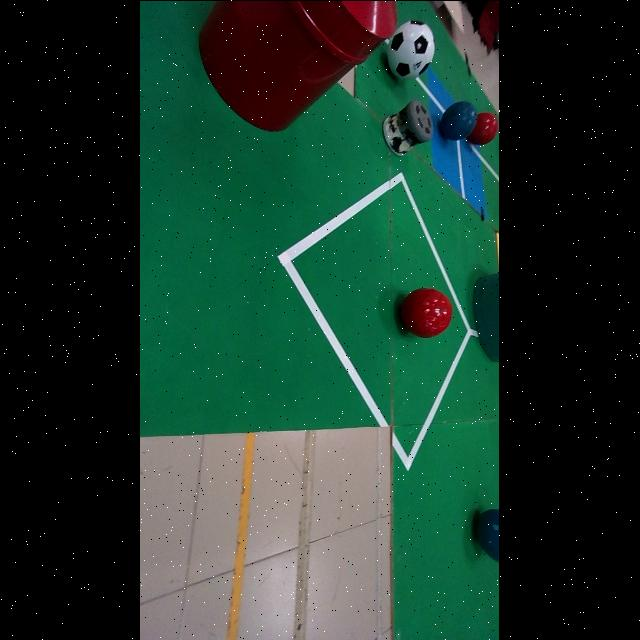B: (440, 101, 479, 139), (477, 508, 500, 561)
R: (401, 287, 453, 337), (467, 111, 499, 144)
